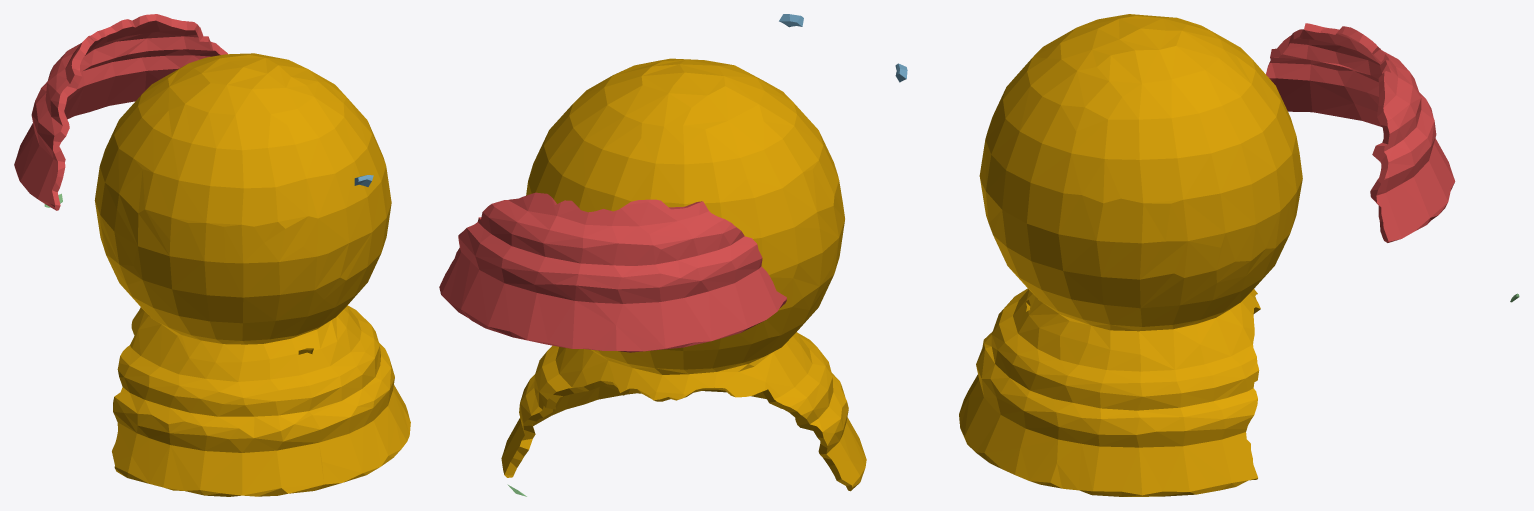
The model's file is fractured_16_4pcs_transformed.glb.
3 views of the same model, side by side, from view 1: azimuth 30°, elevation 25°; view 2: azimuth 150°, elevation 25°; view 3: azimuth 270°, elevation 25° (orthographic). The views are drawn at different scales.
Parts seen in each view (by area): view 1: piece_0.obj, piece_1.obj; view 2: piece_0.obj, piece_1.obj; view 3: piece_0.obj, piece_1.obj.
Boxes of the visible parts, x1,y1,x2,y2 form: piece_0.obj: (94, 53, 410, 496); piece_1.obj: (14, 14, 227, 210); piece_0.obj: (501, 58, 866, 491); piece_1.obj: (439, 192, 786, 352); piece_0.obj: (959, 14, 1302, 496); piece_1.obj: (1266, 23, 1455, 242).
Size of the model in its own units: 0.8448 by 0.9997 by 1.44.
